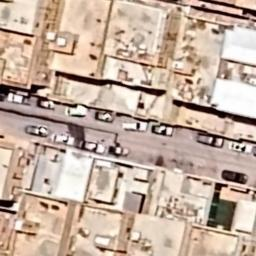pickup: (109, 144, 130, 158)
sedan: (220, 168, 248, 186), (76, 138, 106, 154), (6, 92, 32, 108), (227, 139, 252, 155), (51, 132, 75, 147), (92, 110, 116, 124), (150, 123, 174, 137), (35, 98, 56, 110)
van: (196, 130, 225, 150), (24, 122, 49, 138), (121, 118, 149, 132), (64, 105, 87, 119)
